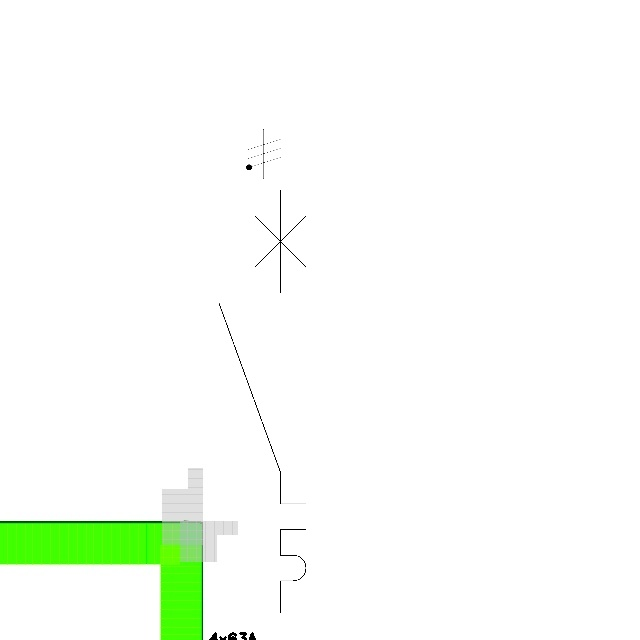interruptor_termomagnetico: (208, 179, 317, 624)
